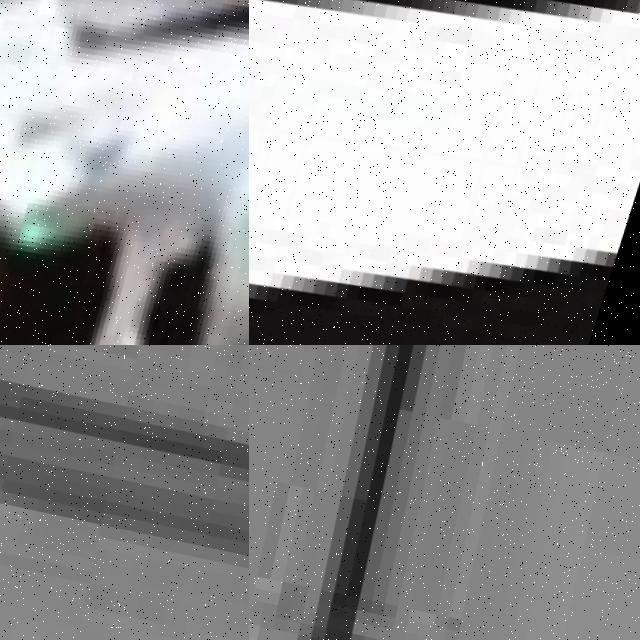0: (0, 0, 249, 345)
drone: (249, 0, 640, 345)
